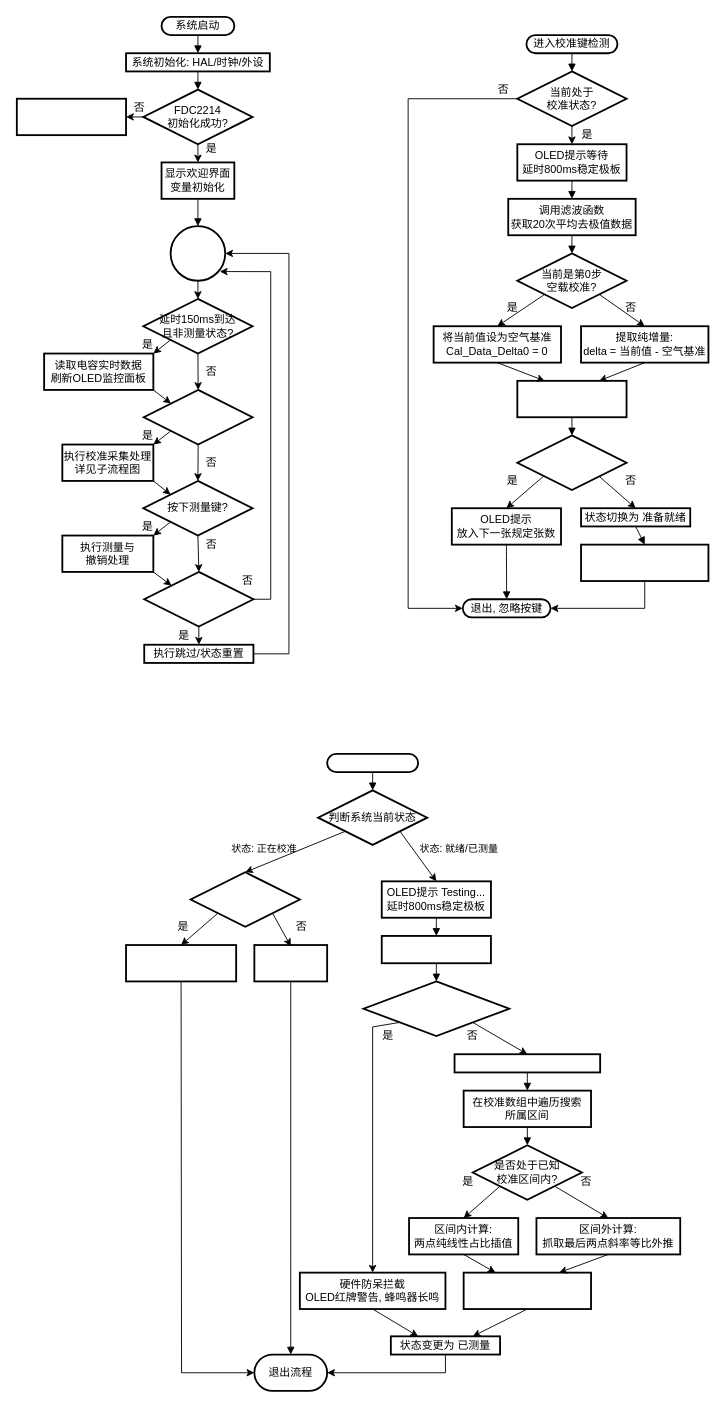
The diagram is 724 pixels wide and 1407 high, and some of its shapes have lost their labels. The box of each missing label's shape, as (x1, y1, x2, y2) in pixels:
OLED提示 Cal Finished 等待测量: (580, 543, 709, 581)
OLED显示ERR 蜂鸣器死循环报警: (15, 97, 126, 136)
主循环 起点: (169, 225, 226, 281)
原始值 ; 短路阈值 80,000,000 ?: (362, 980, 510, 1036)
将增量存入校准数组 指针 cal_step++: (516, 379, 627, 418)
指针回退: cal_step-- OLED提示撤销成功: (125, 944, 237, 982)
按下校准键?: (142, 389, 253, 445)
按下清零键?: (143, 571, 254, 627)
校准点数; 26?: (516, 434, 627, 490)
校准进度 > 0?: (189, 871, 300, 927)
清空屏幕杂项信息 居中显示巨型结果数字: (462, 1271, 592, 1309)
蜂鸣器警告 无法撤销: (253, 944, 328, 982)
计算实时增量 current_delta: (453, 1053, 601, 1073)
调用滤波函数 获取实时电容原始值: (380, 935, 491, 964)
进入测量键检测: (326, 753, 419, 773)
